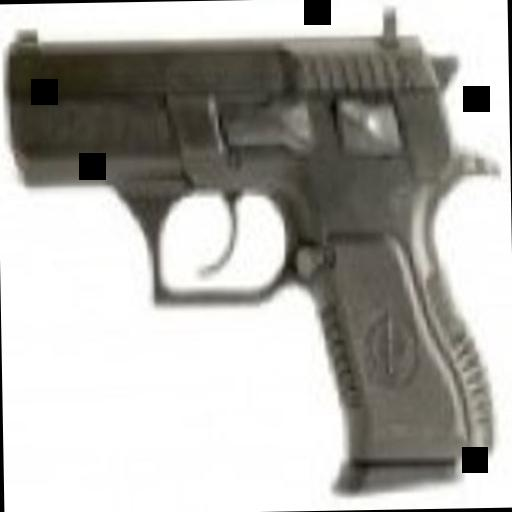Handgun: (4, 12, 505, 498)
